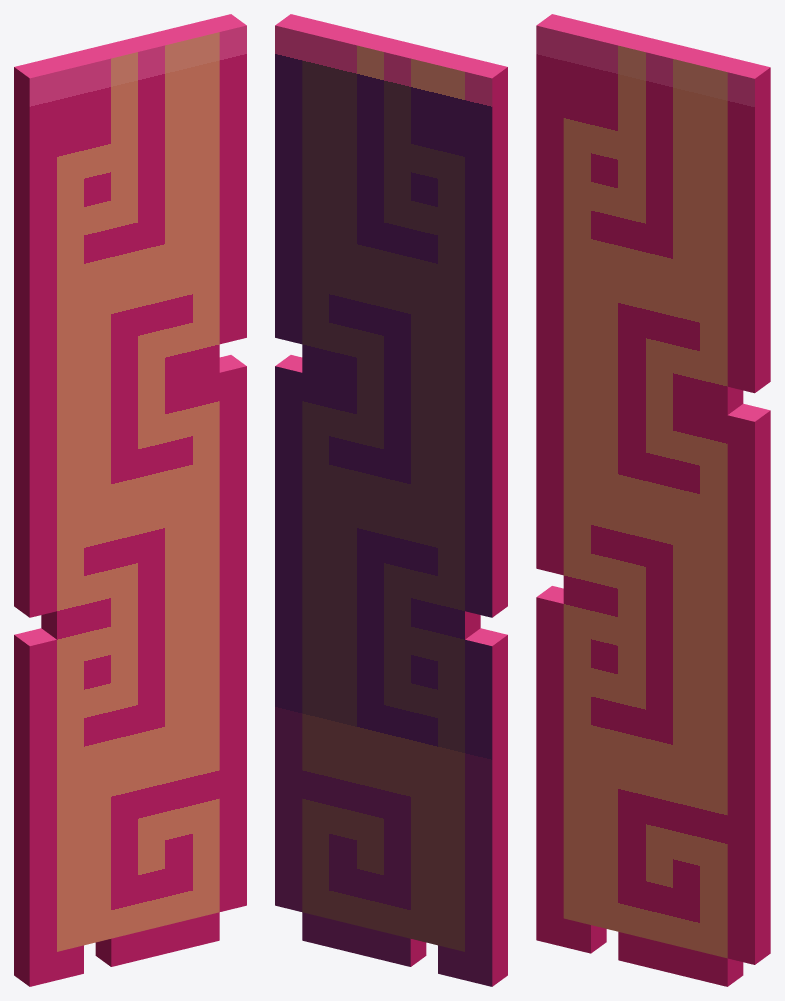
The model's file is pyramid_banner_cao.fezao.glb.
The picture shows the model from 3 angles, left to right: view 1: azimuth 30°, elevation 25°; view 2: azimuth 150°, elevation 25°; view 3: azimuth 330°, elevation 25°; orthographic projection.
Parts seen in each view (by area): view 1: PYRAMID_BANNER_CAO; view 2: PYRAMID_BANNER_CAO; view 3: PYRAMID_BANNER_CAO.
Boxes of the visible parts, x1,y1,x2,y2 form: PYRAMID_BANNER_CAO: (14,14,246,986); PYRAMID_BANNER_CAO: (275,14,507,986); PYRAMID_BANNER_CAO: (536,14,770,986).
Size of the model in its own units: 0.5 by 2 by 0.0625.
1 material, 1 textured.
